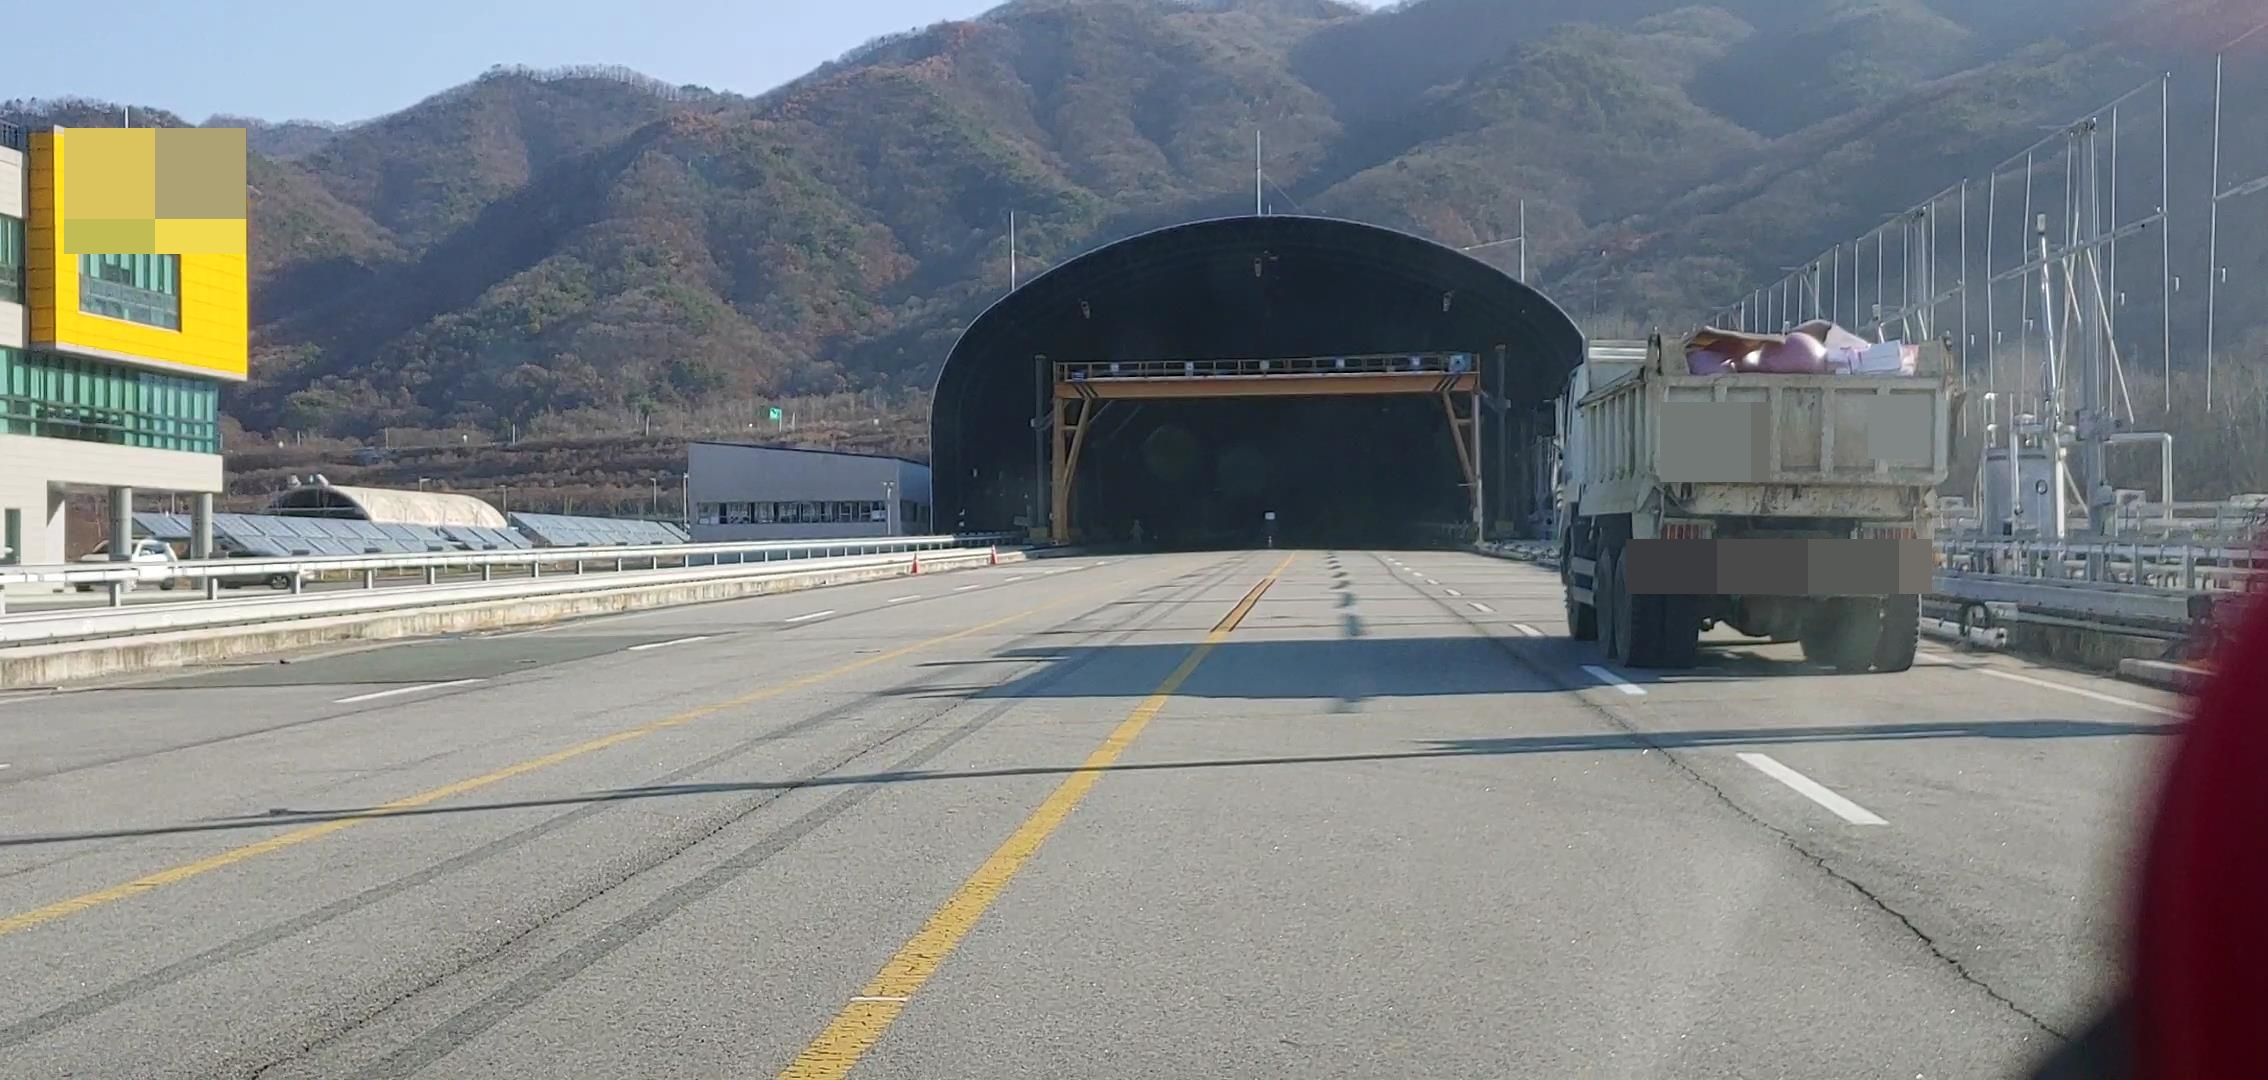불법차량: (1533, 320, 1969, 674)
